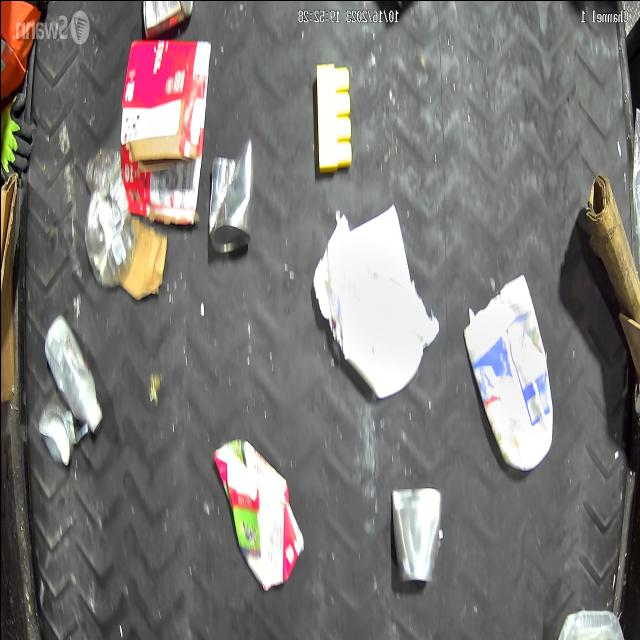can: (389, 474, 448, 590), (207, 132, 254, 256), (36, 396, 78, 464), (138, 0, 202, 32)
